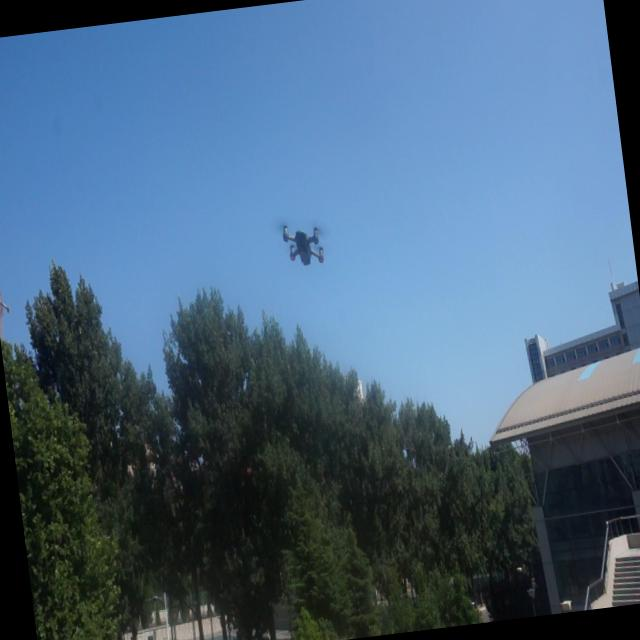drone: (278, 214, 326, 272)
